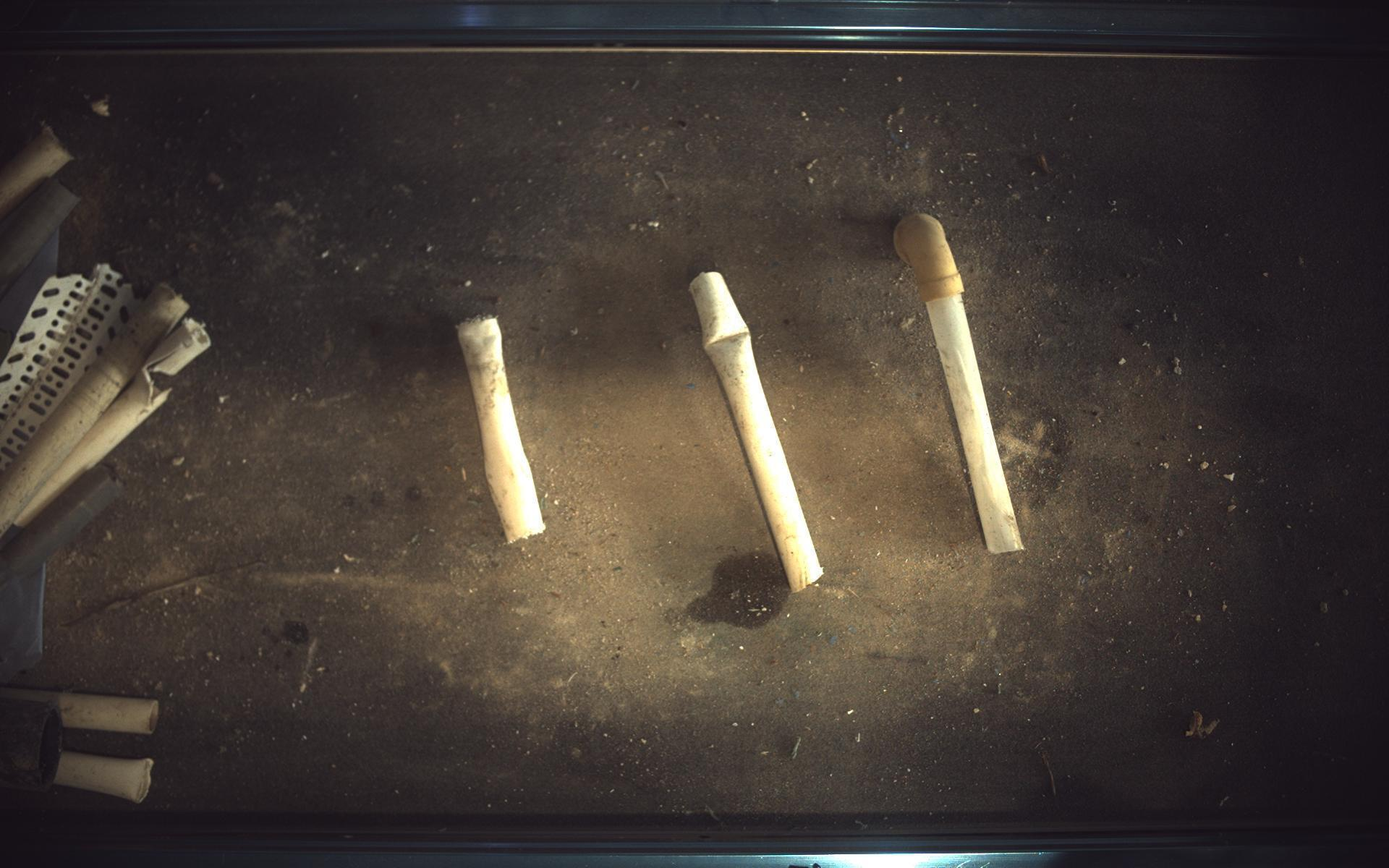pipes: (1, 283, 188, 535), (896, 213, 1026, 554), (691, 271, 824, 592), (14, 318, 209, 526), (458, 316, 545, 543), (1, 177, 78, 294), (1, 690, 158, 736), (1, 124, 71, 218), (1, 699, 61, 793), (53, 752, 153, 805)
plastic: (1, 263, 135, 475), (1, 465, 122, 589)
